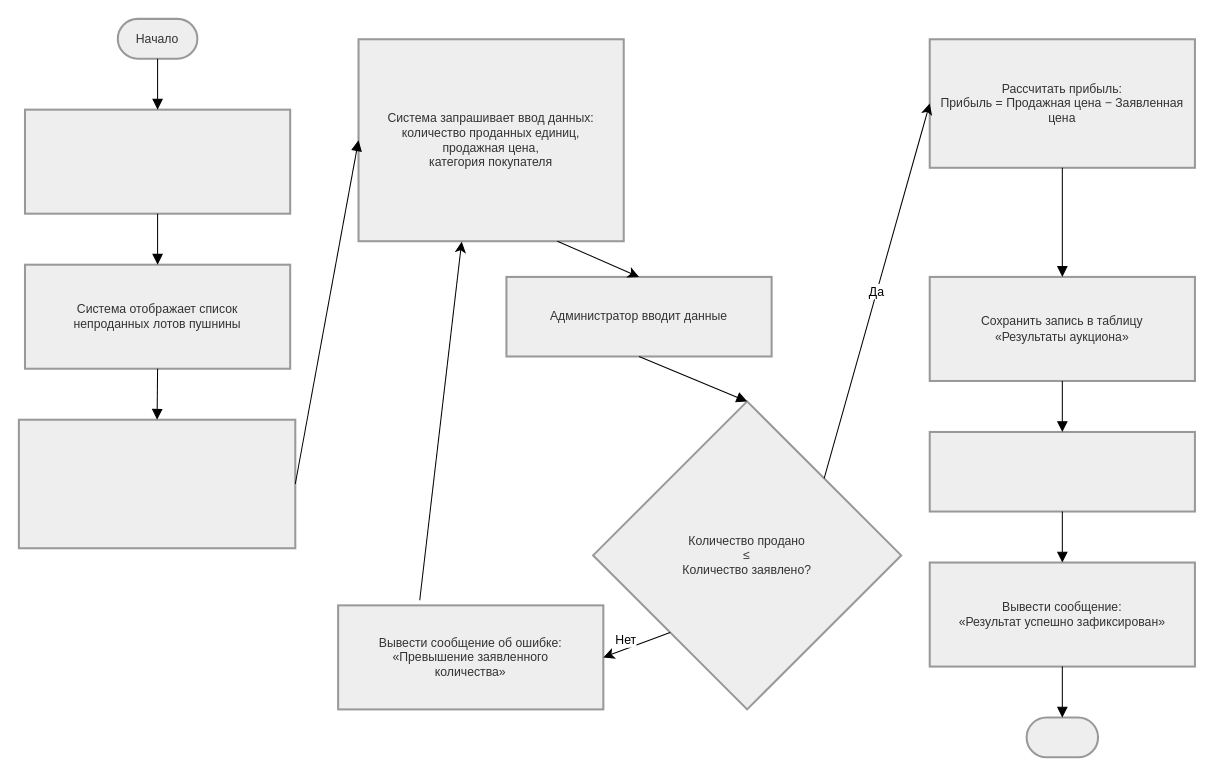
Some shapes in this 1213 by 775 pixel diagram are drawn without their labels. Here are the shapes that lost their labels. From the top down, the centre of each, then its label:
At pixel 157 161: "Администратор выбирает пункт меню «Результаты торгов»".
At pixel 156 483: "Администратор выбирает лот по параметрам: звероферма, мех, сорт".
At pixel 1061 471: "Обновить статус лота на «Продан»".
At pixel 1062 737: "Конец".
